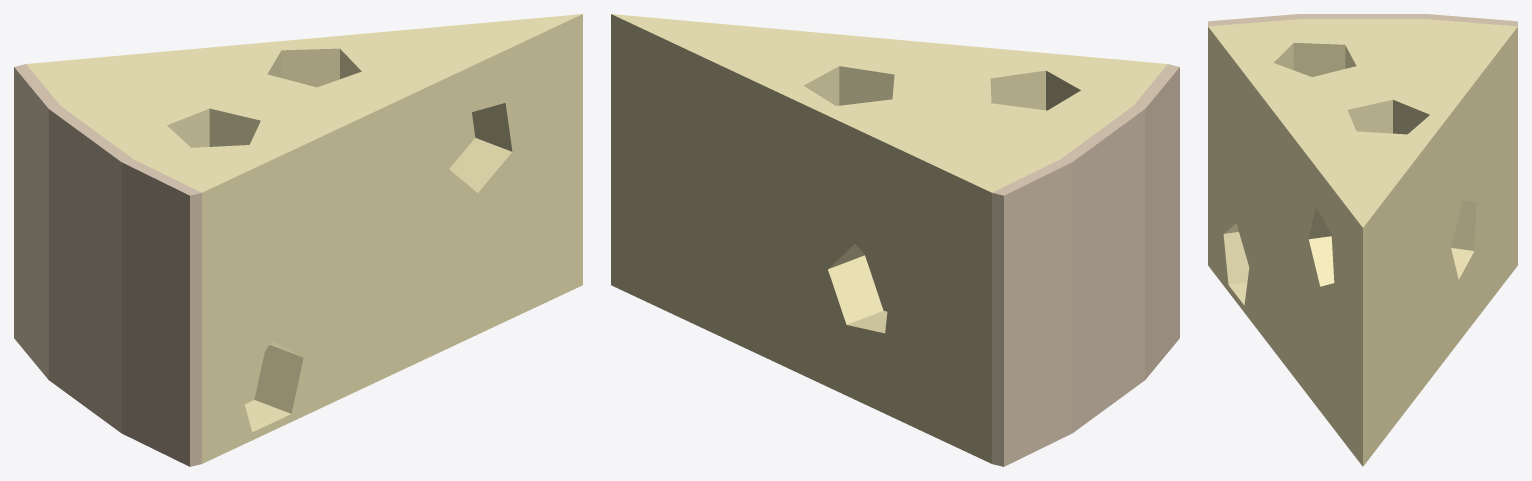
File: Cheese.fbx
3 renders of one model, left to right at view 1: azimuth 30°, elevation 25°; view 2: azimuth 150°, elevation 25°; view 3: azimuth 270°, elevation 25°, orthographic. The views are drawn at different scales.
Parts seen in each view (by area): view 1: Cheese; view 2: Cheese; view 3: Cheese.
Part boxes in pixels (x1,y1,x2,y2): Cheese: [14, 14, 582, 466]; Cheese: [611, 14, 1179, 466]; Cheese: [1208, 14, 1517, 466].
Bounding box in the file's own units: 0.1152 × 0.06 × 0.0705.
